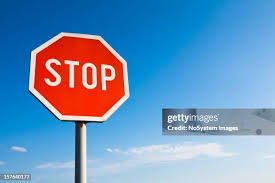stop sign: (29, 31, 130, 122)
